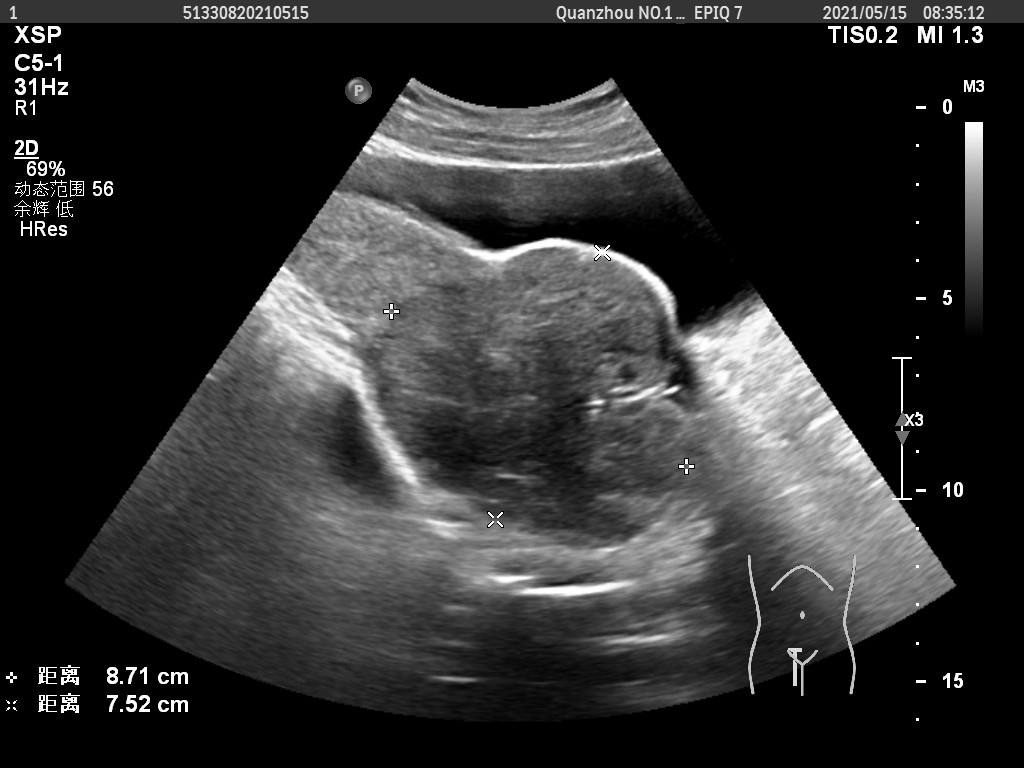肌瘤: (389, 260, 691, 514)
